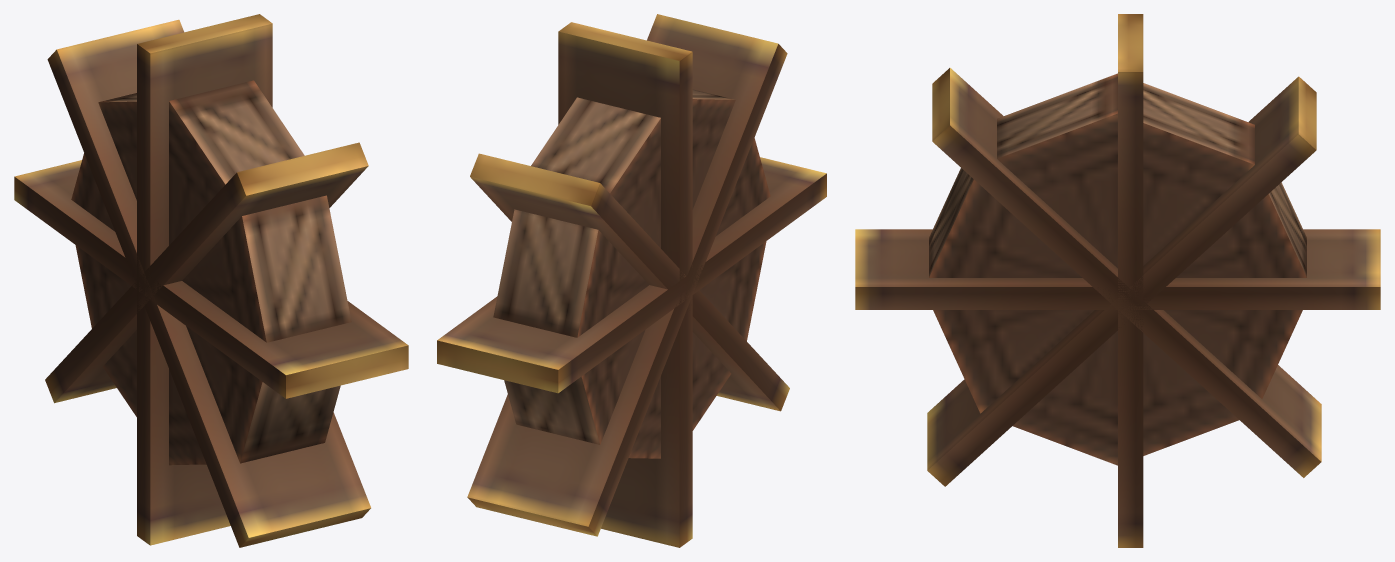
Rendered from XIN_FB_Shuiche.FBX.
3 renders of one model, left to right at view 1: azimuth 30°, elevation 25°; view 2: azimuth 150°, elevation 25°; view 3: azimuth 270°, elevation 25°, orthographic. The views are drawn at different scales.
Visible parts, largest first — view 1: Object02; view 2: Object02; view 3: Object02.
Part boxes in pixels (box(x1,y1,x2,y2)): Object02: box(14, 14, 408, 547); Object02: box(437, 14, 826, 547); Object02: box(855, 14, 1380, 547).
Size of the model in its own units: 2.58 by 9.91 by 9.91.
